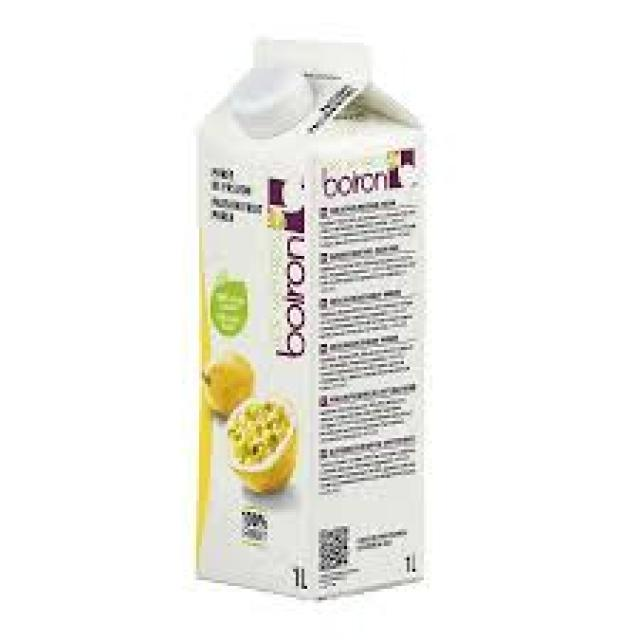non_white_jug: (193, 13, 438, 604)
